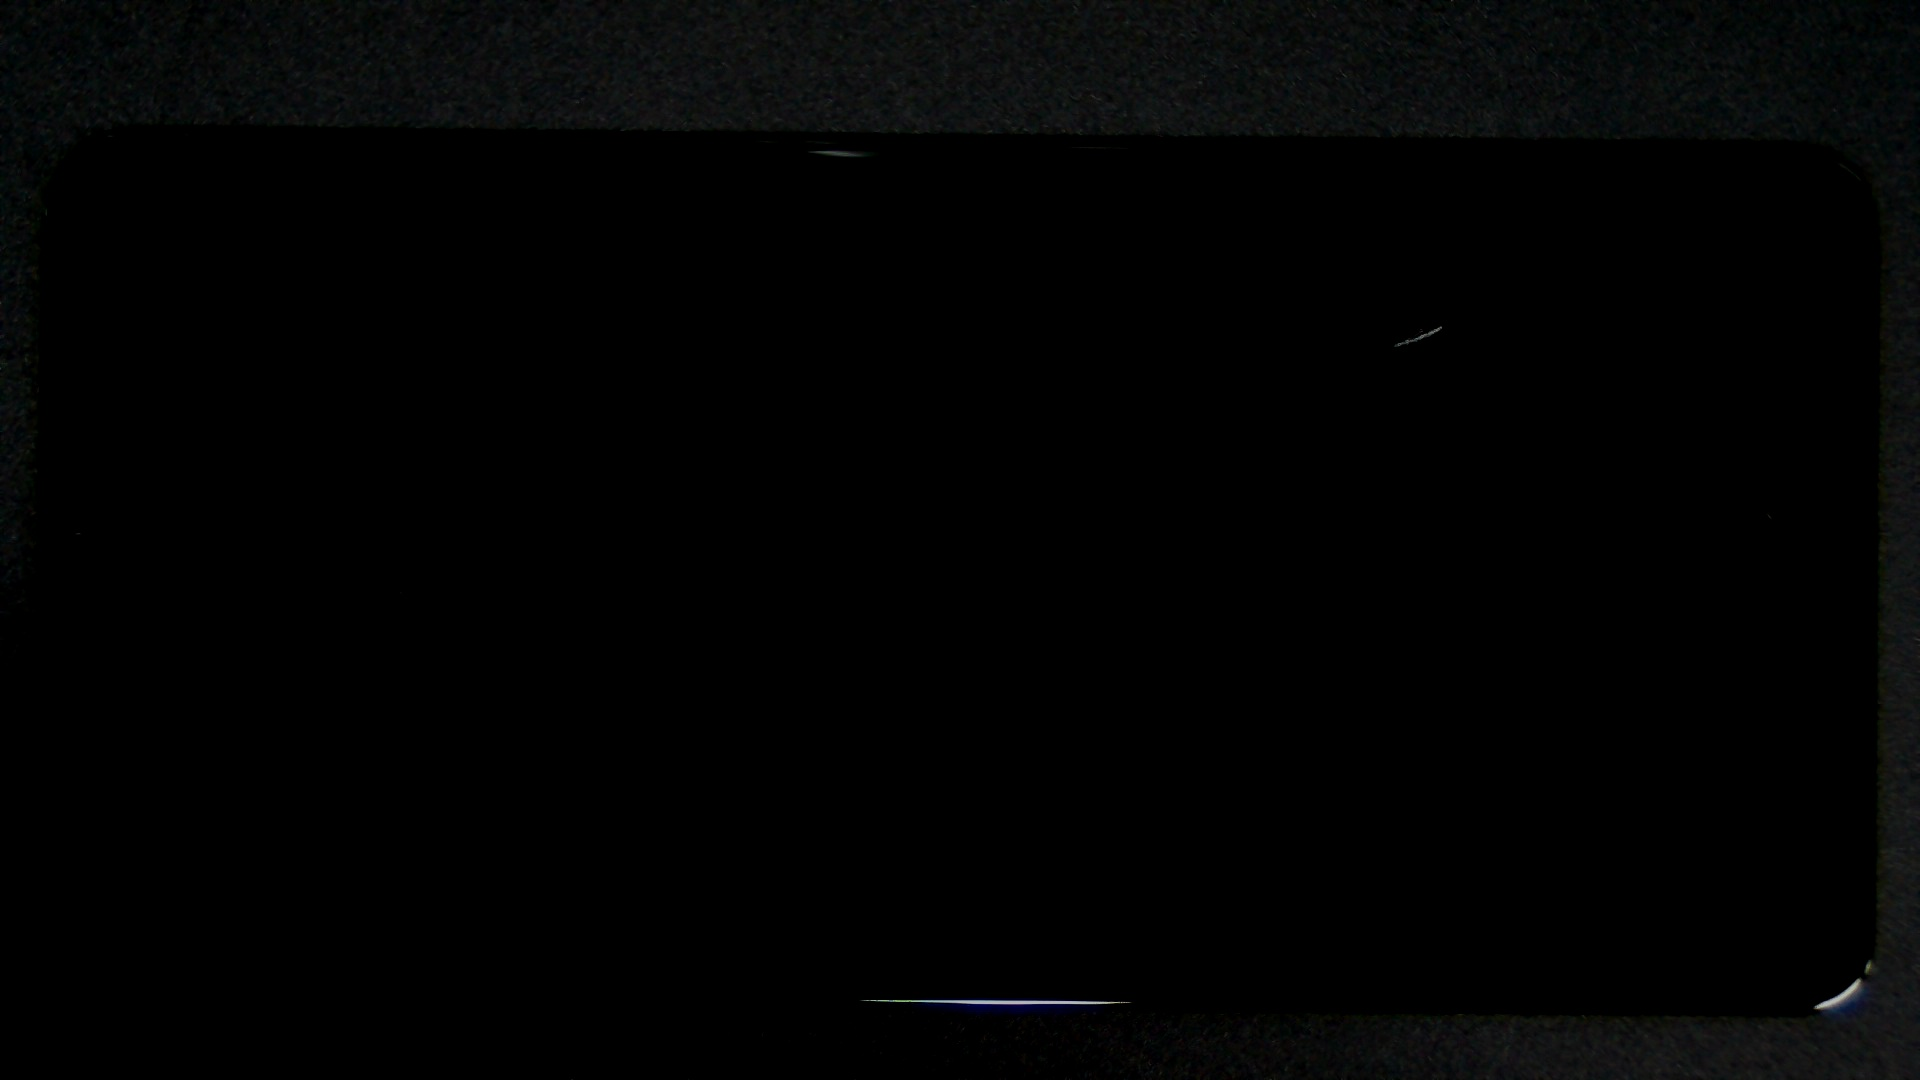oil: (721, 161, 1920, 487)
